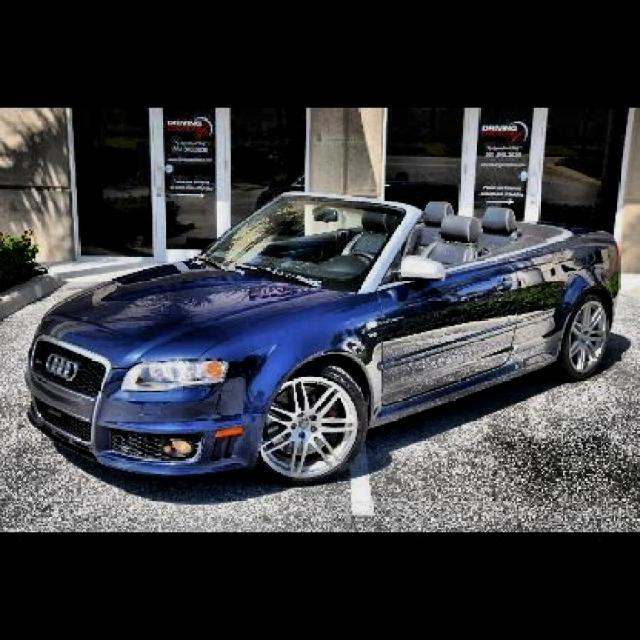blue: (13, 185, 640, 476)
